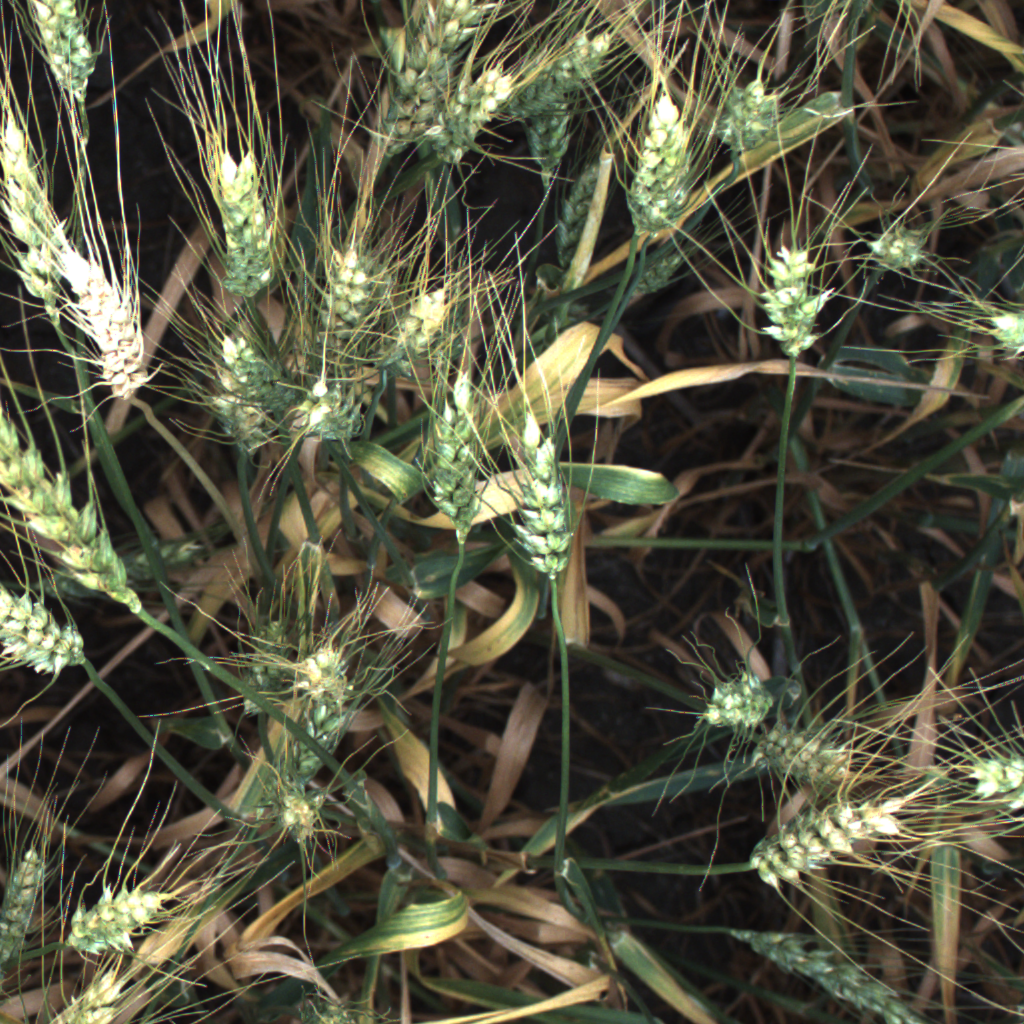wheat_head: (0, 399, 146, 630), (737, 772, 927, 893), (727, 916, 936, 1024), (46, 238, 158, 415), (347, 0, 472, 155), (188, 131, 284, 318), (503, 393, 593, 592), (619, 73, 706, 251), (0, 127, 70, 338), (405, 62, 513, 184), (500, 23, 623, 130), (417, 373, 492, 544), (728, 715, 875, 797), (201, 326, 278, 482), (751, 234, 837, 369), (57, 873, 183, 965), (0, 575, 95, 690), (22, 1, 109, 114), (943, 720, 1024, 832), (685, 659, 797, 739), (218, 615, 291, 737), (711, 69, 797, 172), (312, 225, 379, 356), (381, 267, 457, 375), (541, 152, 611, 267), (855, 207, 949, 287), (525, 65, 581, 196), (0, 825, 48, 972), (287, 687, 344, 802), (298, 369, 375, 448), (630, 233, 703, 308), (43, 967, 136, 1024), (273, 777, 346, 845), (971, 289, 1024, 375), (295, 630, 354, 702)
